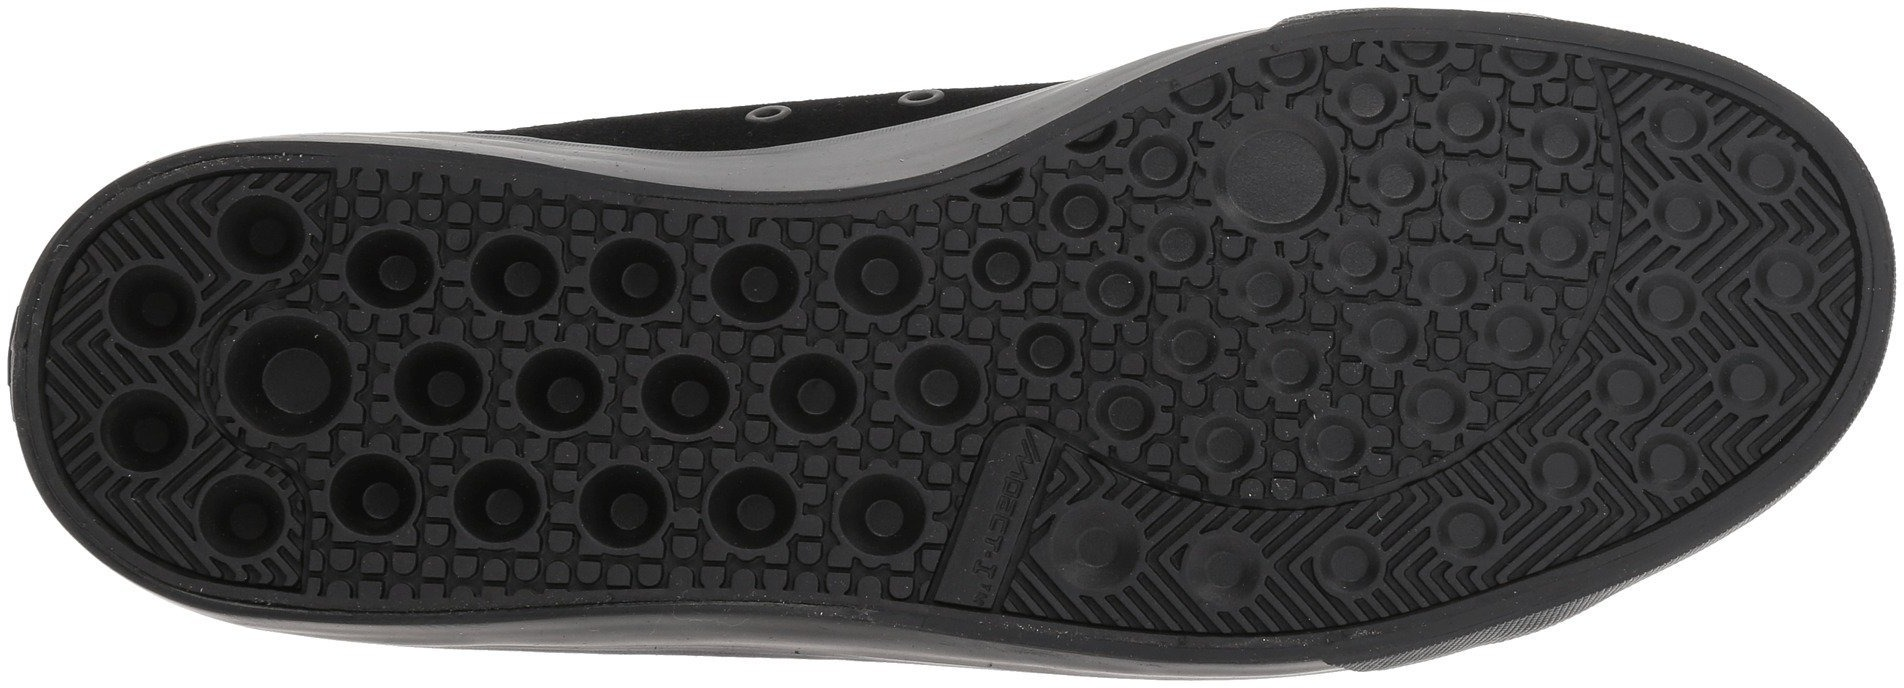chevron: (75, 252, 342, 488), (1621, 174, 1834, 366), (1191, 504, 1387, 648), (1486, 425, 1644, 593)
circle: (324, 184, 750, 587), (1203, 68, 1579, 402), (75, 252, 342, 488), (832, 212, 1076, 447), (1621, 174, 1834, 366), (1191, 504, 1387, 648), (1486, 425, 1644, 593), (1018, 470, 1184, 629)
